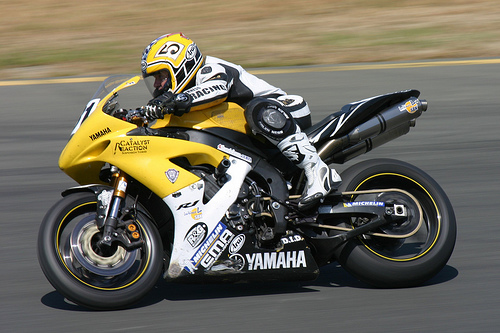helmet: (143, 37, 209, 80)
